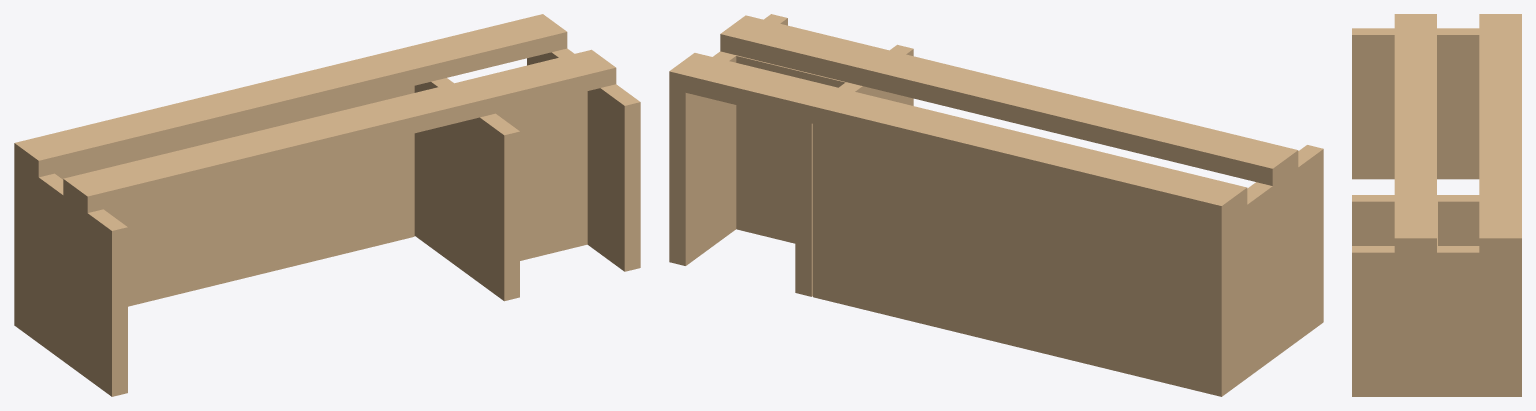
File: tinker.obj
3 views of the same model, side by side, from view 1: azimuth 30°, elevation 25°; view 2: azimuth 150°, elevation 25°; view 3: azimuth 270°, elevation 25° (orthographic). The views are drawn at different scales.
Parts seen in each view (by area): view 1: obj_0; view 2: obj_0; view 3: obj_0.
Part boxes in pixels (bbox=[...]): obj_0: bbox=[14, 14, 640, 396]; obj_0: bbox=[669, 14, 1323, 396]; obj_0: bbox=[1352, 14, 1521, 396].
Bounding box in the file's own units: 500 × 165 × 160.
